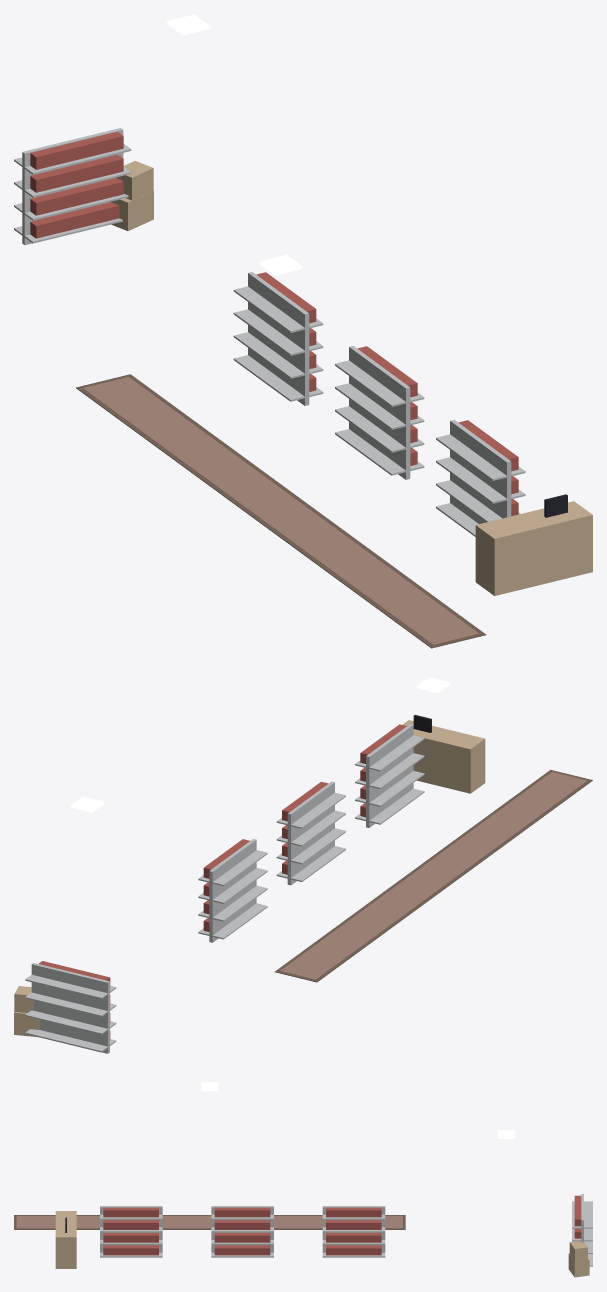
Rendered from fine-s0.glb.
3 views of the same model, one above another, from view 1: azimuth 30°, elevation 25°; view 2: azimuth 150°, elevation 25°; view 3: azimuth 270°, elevation 25° (orthographic). The views are drawn at different scales.
Visible parts, largest first — view 1: soft-s0, shelving.000, shop-counter.000, shelf.000, shelf.001, shelf.002, cardboard-box.000; view 2: soft-s0, shelving.000, shelf.002, shelf.000, shelf.001, shop-counter.000, cardboard-box.000; view 3: shelf.000, shelf.001, shelf.002, soft-s0, shop-counter.000, shelving.000, cardboard-box.000.
Part boxes in pixels (x1,y1,x2,y2): soft-s0: (76, 374, 486, 648); shelving.000: (14, 128, 131, 245); shop-counter.000: (475, 494, 592, 595); shelf.000: (233, 272, 323, 405); shelf.001: (335, 346, 424, 479); shelf.002: (436, 419, 525, 536); cardboard-box.000: (110, 161, 153, 230); soft-s0: (275, 769, 592, 982); shelving.000: (25, 961, 116, 1053); shelf.002: (355, 724, 424, 827); shelf.000: (198, 839, 267, 942); shelf.001: (276, 781, 345, 885); shop-counter.000: (402, 715, 485, 793); cardboard-box.000: (14, 986, 40, 1037); shelf.000: (322, 1206, 385, 1257); shelf.001: (211, 1206, 273, 1257); shelf.002: (100, 1206, 162, 1257); soft-s0: (14, 1215, 405, 1229); shop-counter.000: (55, 1211, 76, 1268); shelving.000: (572, 1194, 592, 1266); cardboard-box.000: (568, 1241, 589, 1277).
Bounding box in the file's own units: 4.23 × 4.33 × 16.64.
